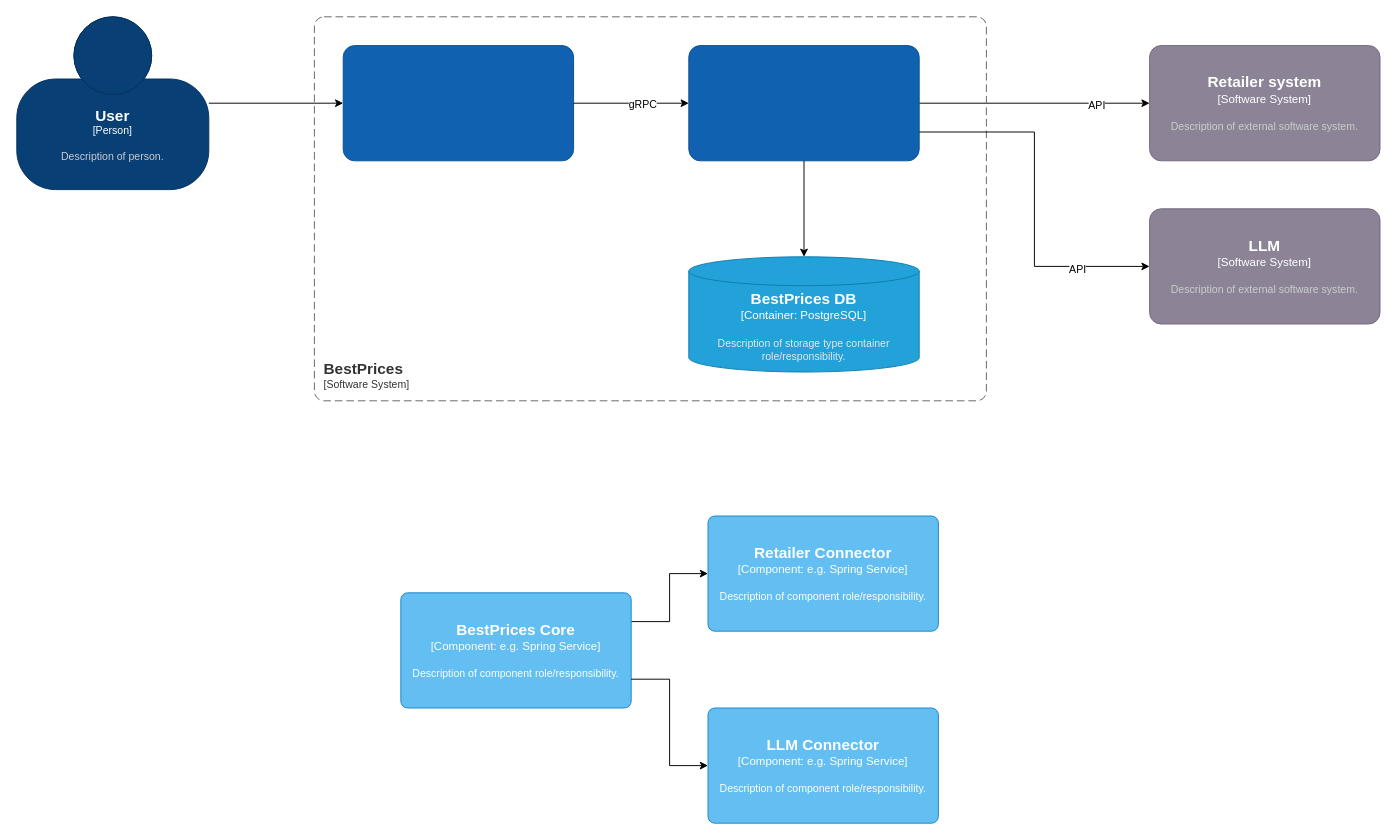
This 1397x840 diagram has some shape labels left out. Here are the shapes that lost their labels. From the top down, the centre of each, then its label:
At pixel 458 103: "API Gateway [Software System] Description of software system.".
At pixel 803 103: "BestPrices [Software System] Description of software system.".
